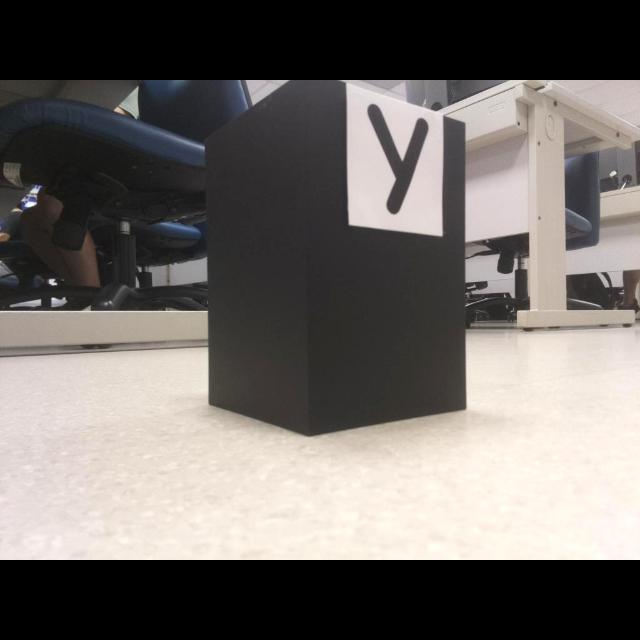Y: (368, 104, 428, 214)
